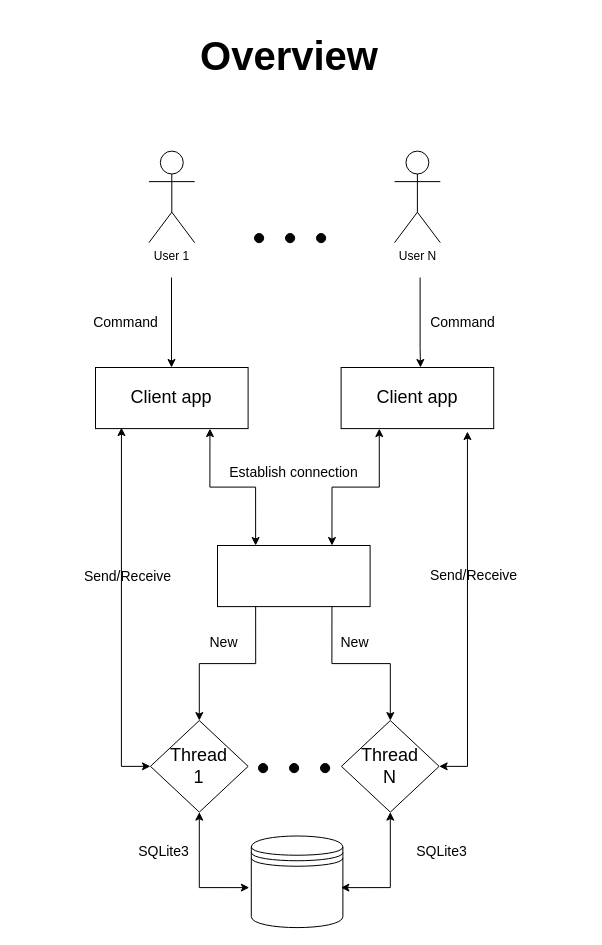
Image size: 602x945. Some labels were removed from this diagram. The shapes that lost their labels are listed below. From the top down, each one's box as (x1, y1, x2, y2) in pixels, then its label:
(216, 544, 370, 607): Server app
(250, 835, 343, 928): DB
